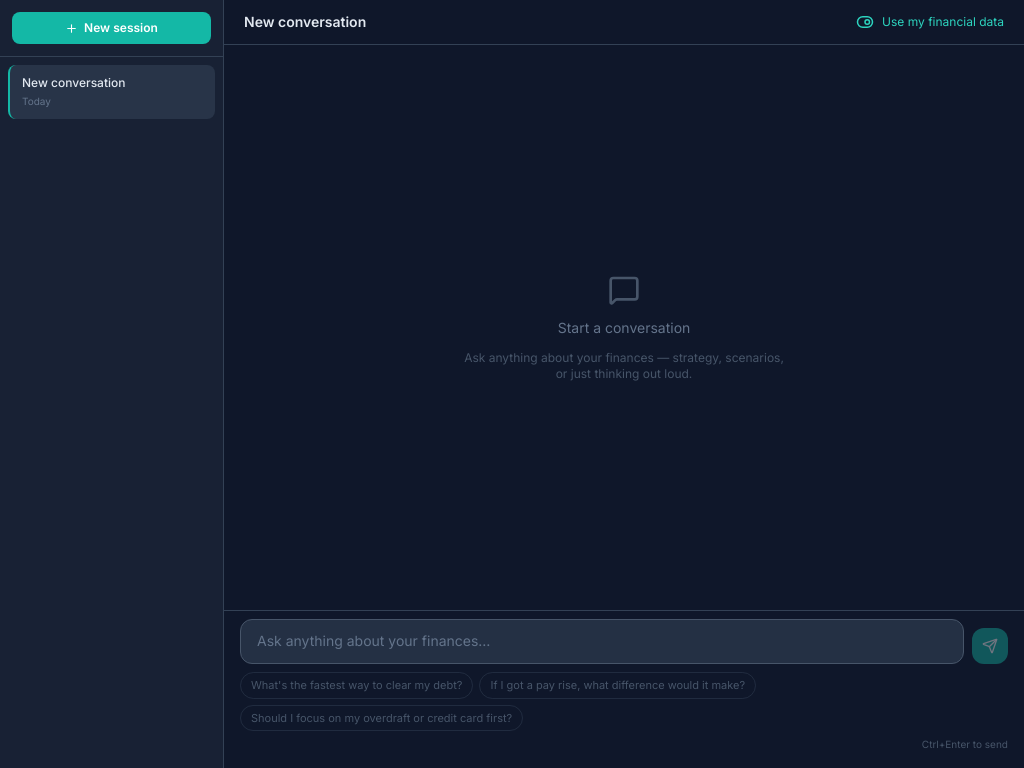
Scenario: ChatPanel › shows user message bubble after sending
Type "My question" into the text box with placeholder "Ask anything about your finances…" at (602, 642), box [240, 619, 964, 664]
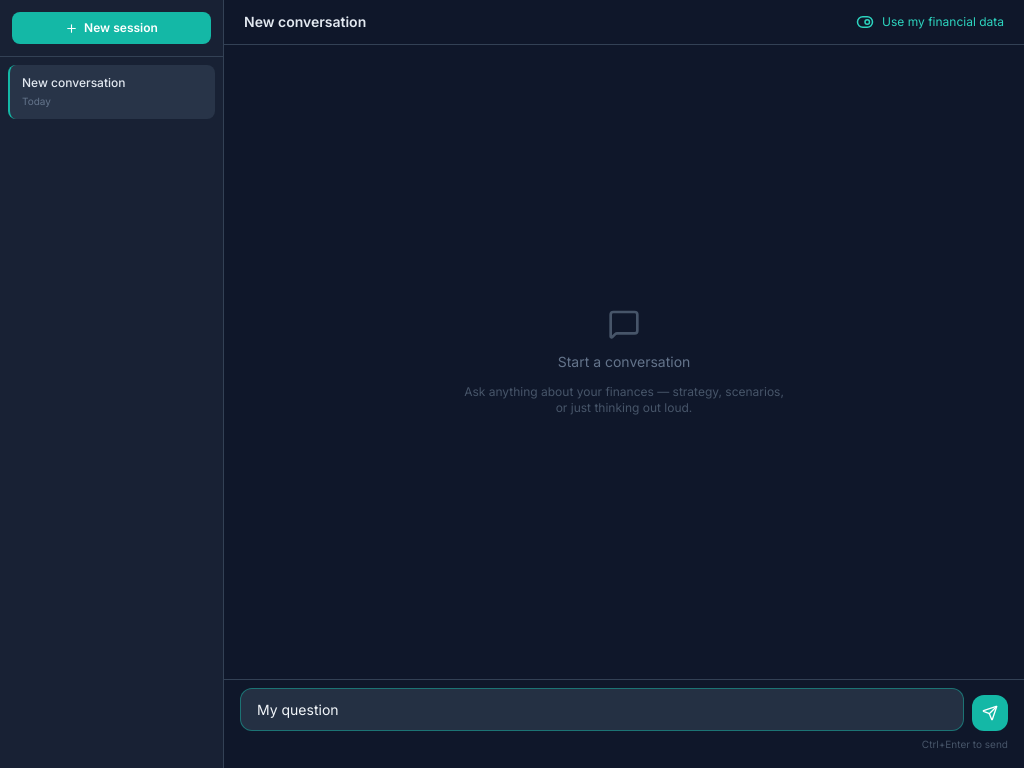
Click the button titled "Send" at (990, 713), box [972, 695, 1008, 731]
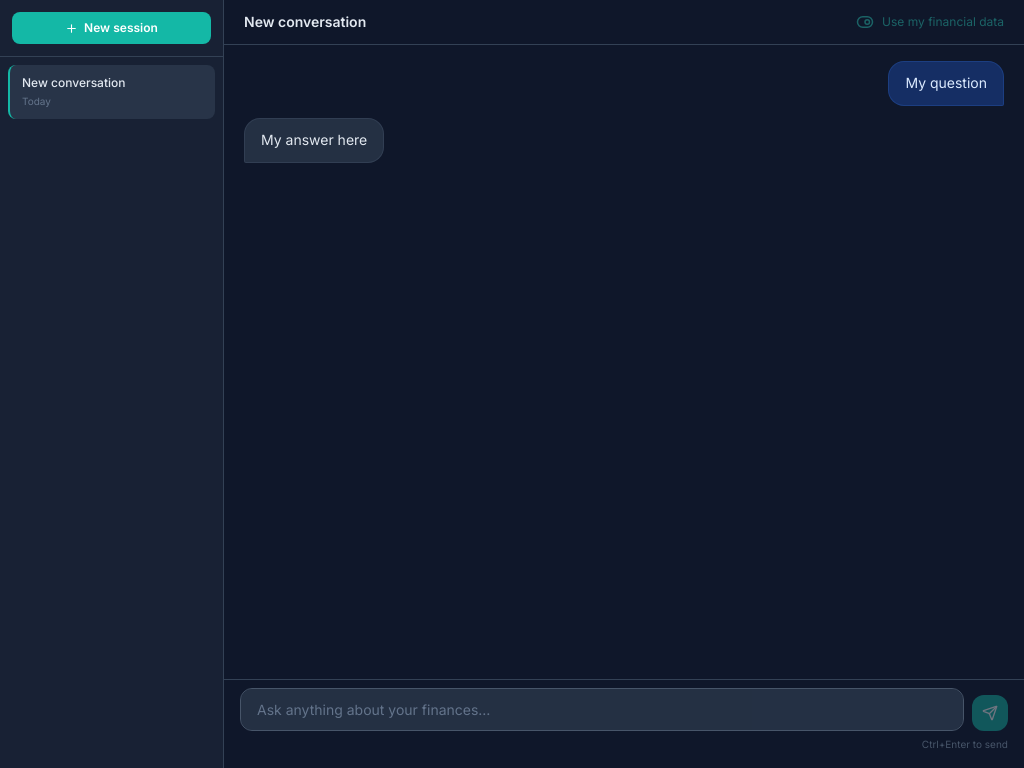
Expected: the text "My question" is shown, [888, 61, 1004, 106]
